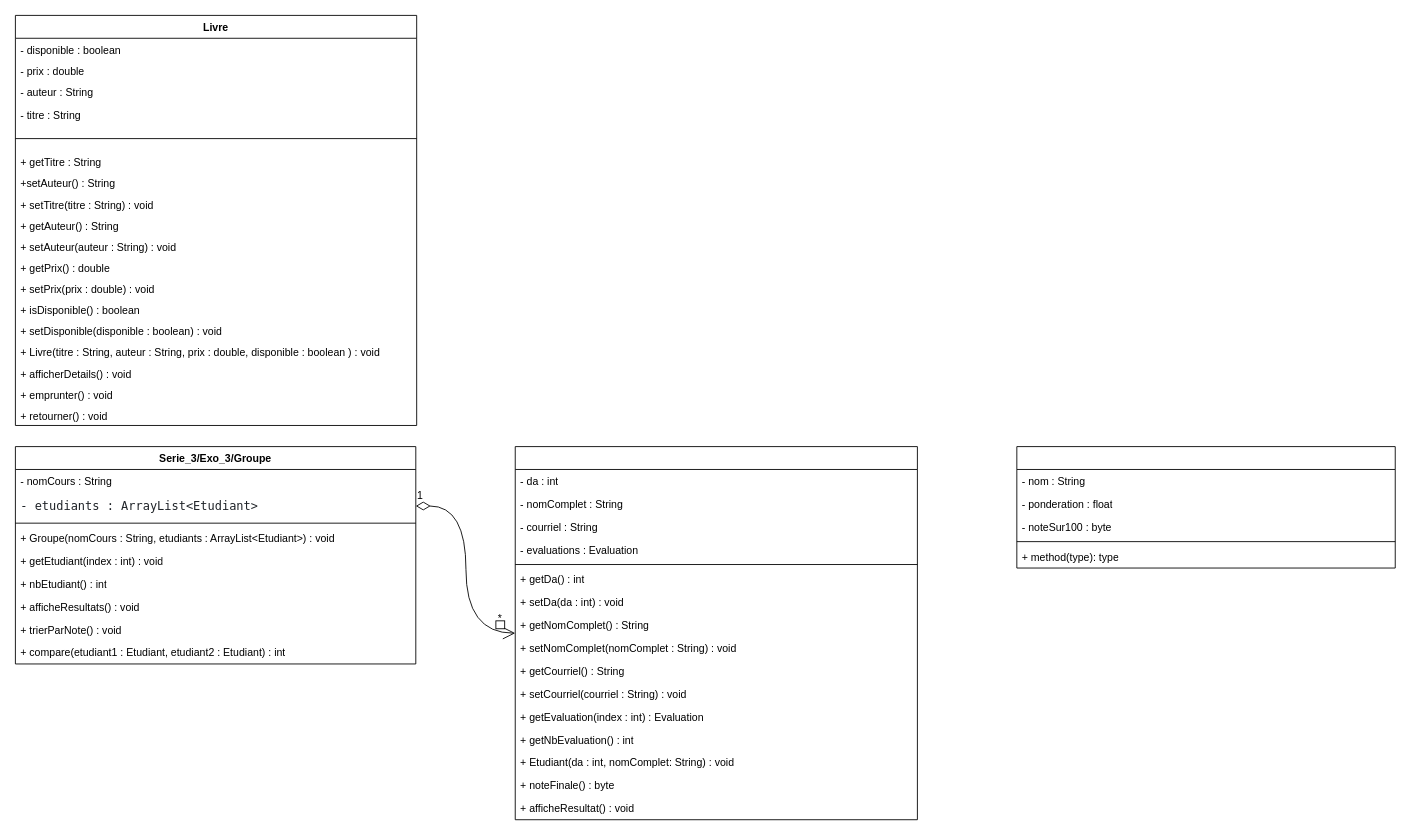
The diagram is 1411 pixels wide and 838 high, and some of its shapes have lost their labels. Here are the shapes that lost their labels. From the top down, the box of each, then its label:
(1016, 446, 1395, 568): Serie_3/Exo_3/Evaluation
(514, 446, 917, 820): Serie_3/Exo_3/Etudiant
